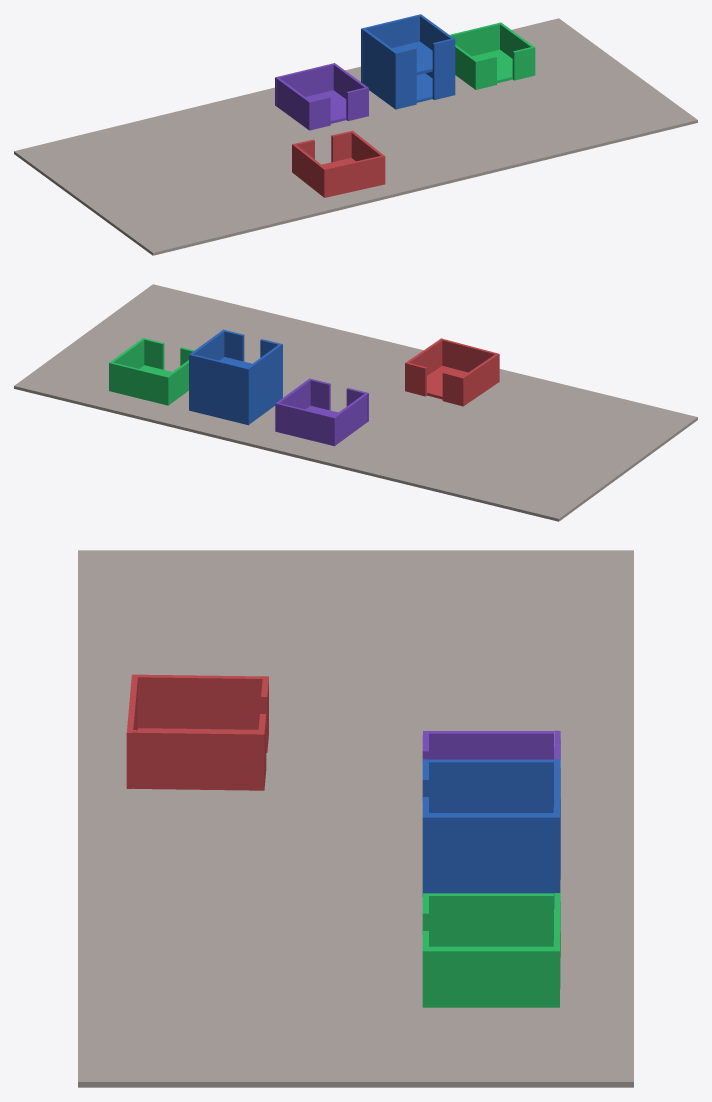
The model's file is testStructure.obj.
3 views of the same model, one above another, from view 1: azimuth 30°, elevation 25°; view 2: azimuth 150°, elevation 25°; view 3: azimuth 270°, elevation 25° (orthographic). The views are drawn at different scales.
Parts seen in each view (by area): view 1: floor, room-blue-l2, room-purple, room-red, room-green, room-blue-l1; view 2: floor, room-red, room-blue-l2, room-purple, room-green, room-blue-l1; view 3: floor, room-red, room-blue-l2, room-green, room-purple, room-blue-l1.
Boxes of the visible parts, <box> form: floor: <box>14,18,697,255</box>; room-blue-l2: <box>361,14,455,81</box>; room-purple: <box>275,63,368,130</box>; room-red: <box>292,130,385,197</box>; room-green: <box>450,22,535,89</box>; room-blue-l1: <box>361,56,455,109</box>; floor: <box>14,284,697,521</box>; room-red: <box>405,338,499,406</box>; room-blue-l2: <box>189,329,282,397</box>; room-purple: <box>275,378,368,446</box>; room-green: <box>109,338,194,405</box>; room-blue-l1: <box>189,373,282,425</box>; floor: <box>78,550,633,1087</box>; room-red: <box>126,674,268,790</box>; room-blue-l2: <box>422,759,560,874</box>; room-green: <box>422,893,560,1007</box>; room-purple: <box>422,730,560,774</box>; room-blue-l1: <box>422,825,560,908</box>.
Size of the model in its own units: 201 by 20.71 by 88.94.
